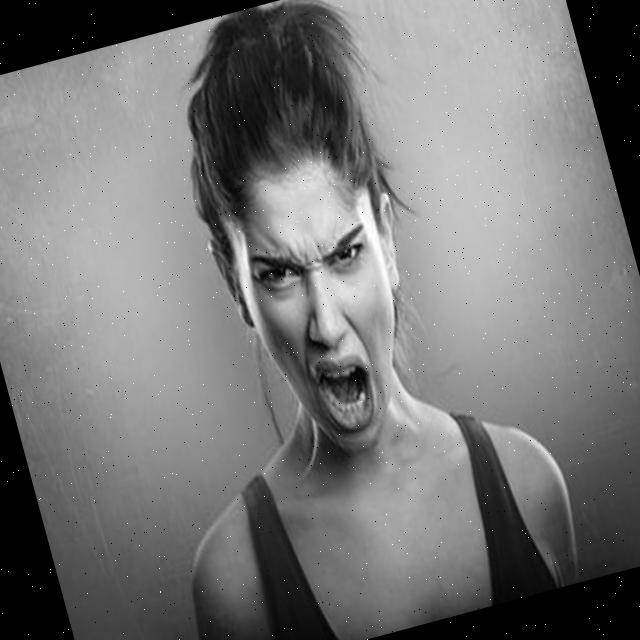Angry: (217, 156, 433, 470)
